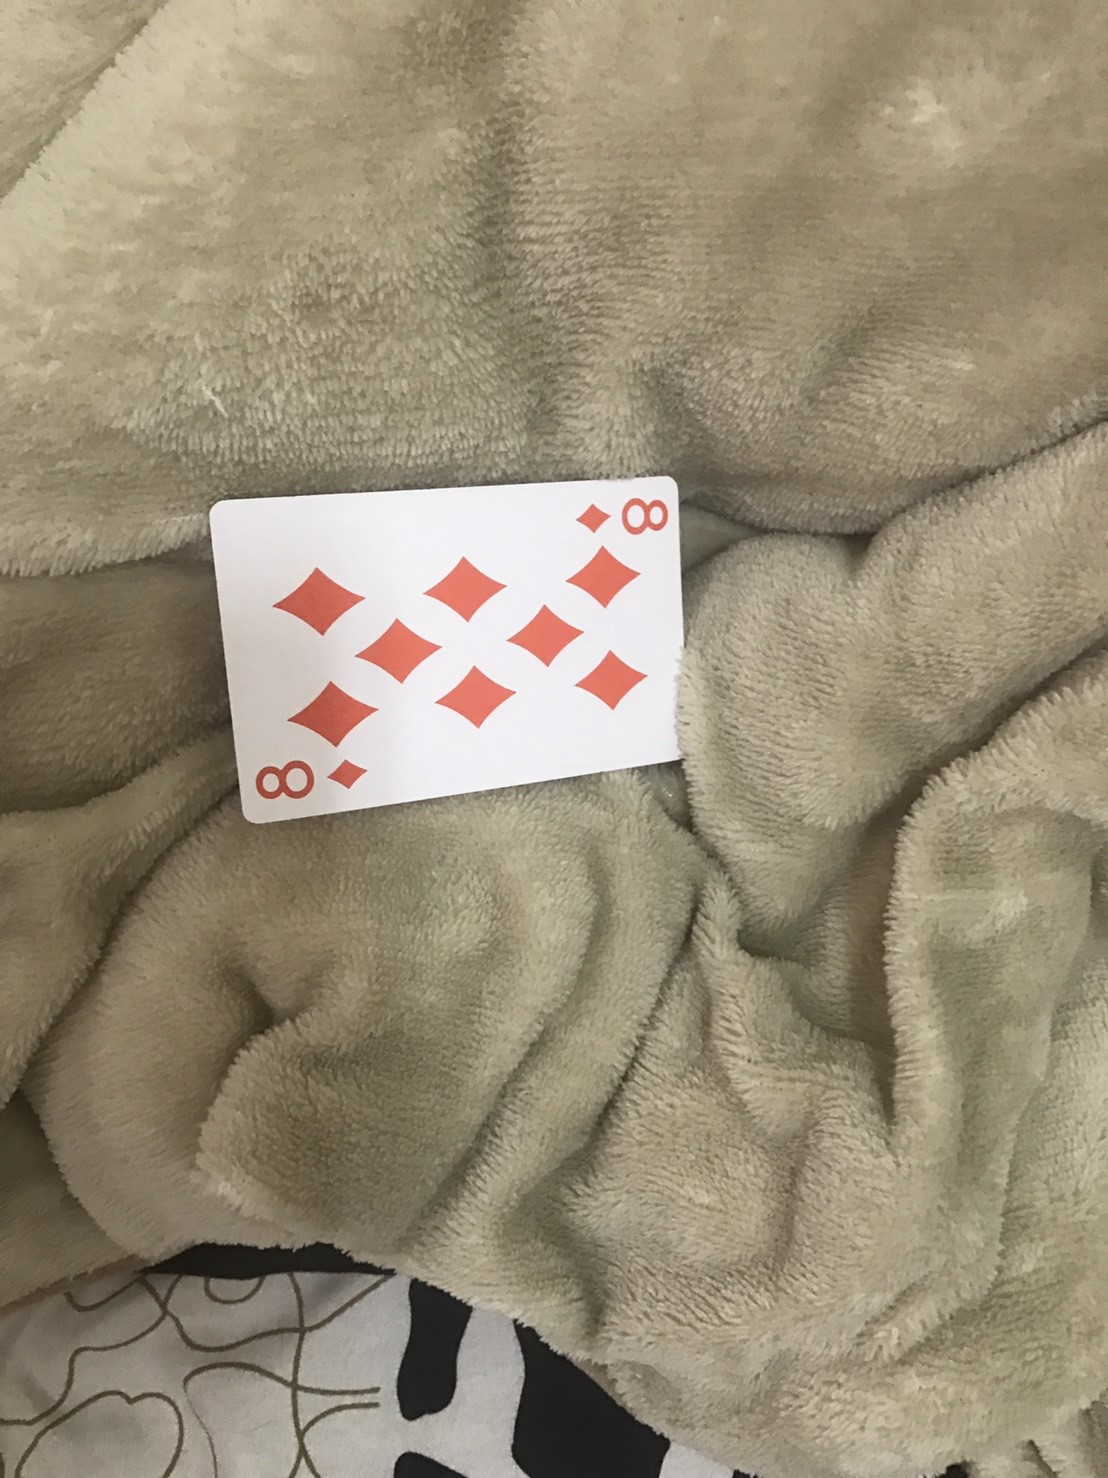diamonds: (274, 562, 367, 638), (348, 614, 443, 688), (432, 662, 523, 737), (284, 678, 379, 747), (505, 602, 589, 674), (424, 556, 510, 624), (567, 547, 644, 616), (575, 649, 649, 712), (324, 756, 374, 790), (574, 495, 611, 531)
